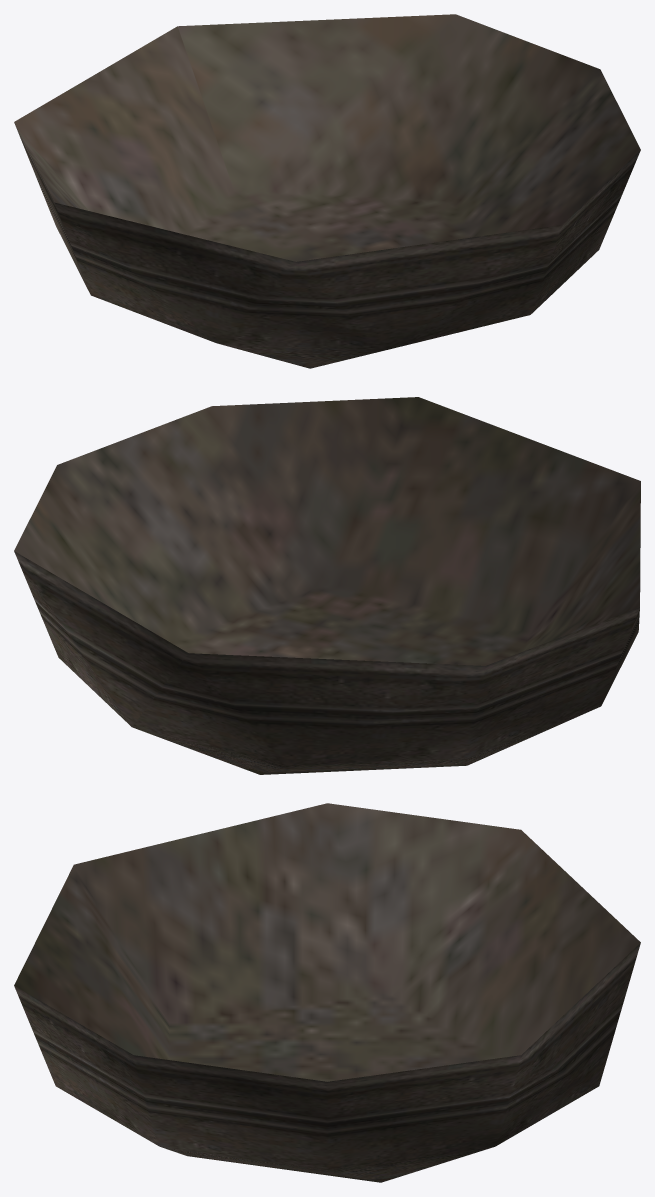
Rendered from edb_con_tato_bowl_empty_s01_l1.fbx.
The picture shows the model from 3 angles, top to bottom: view 1: azimuth 30°, elevation 25°; view 2: azimuth 150°, elevation 25°; view 3: azimuth 270°, elevation 25°; orthographic projection. The views are drawn at different scales.
Parts seen in each view (by area): view 1: mesh_node; view 2: mesh_node; view 3: mesh_node.
Boxes of the visible parts, x1,y1,x2,y2 form: mesh_node: (14, 14, 640, 368); mesh_node: (14, 397, 640, 774); mesh_node: (14, 803, 640, 1182).
Bounding box in the file's own units: 0.5462 × 0.1559 × 0.5195.
